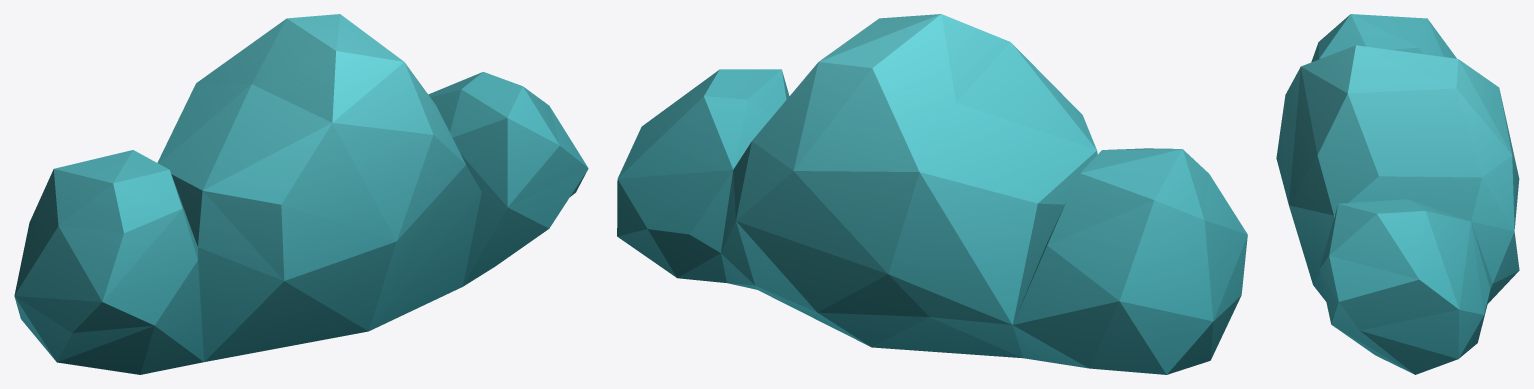
The model's file is bush_crown_blue.fbx.
3 views of the same model, side by side, from view 1: azimuth 30°, elevation 25°; view 2: azimuth 150°, elevation 25°; view 3: azimuth 270°, elevation 25° (orthographic). The views are drawn at different scales.
Visible parts, largest first — view 1: bush_crown_blue; view 2: bush_crown_blue; view 3: bush_crown_blue.
Boxes of the visible parts, bbox=[...] form: bush_crown_blue: bbox=[14, 14, 588, 374]; bush_crown_blue: bbox=[617, 14, 1247, 374]; bush_crown_blue: bbox=[1276, 14, 1519, 374].
Size of the model in its own units: 3.2 by 1.5 by 1.4.
1 material, 1 textured.
